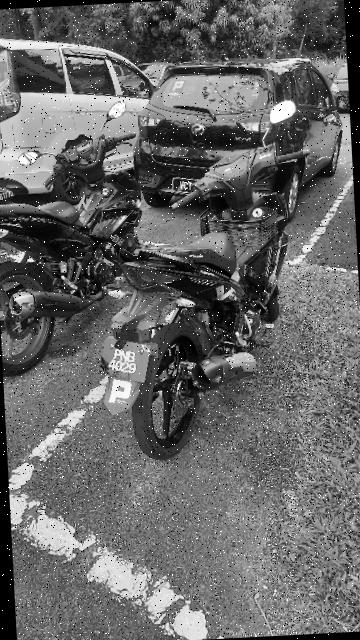License_Plate: (100, 331, 158, 389)
car: (133, 52, 350, 218), (1, 22, 174, 199)
motorcycle: (91, 98, 331, 467), (1, 87, 155, 370)
